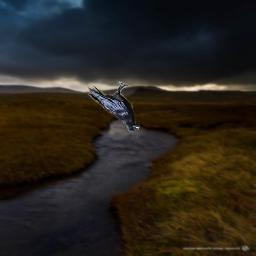Crow: (87, 81, 140, 133)
